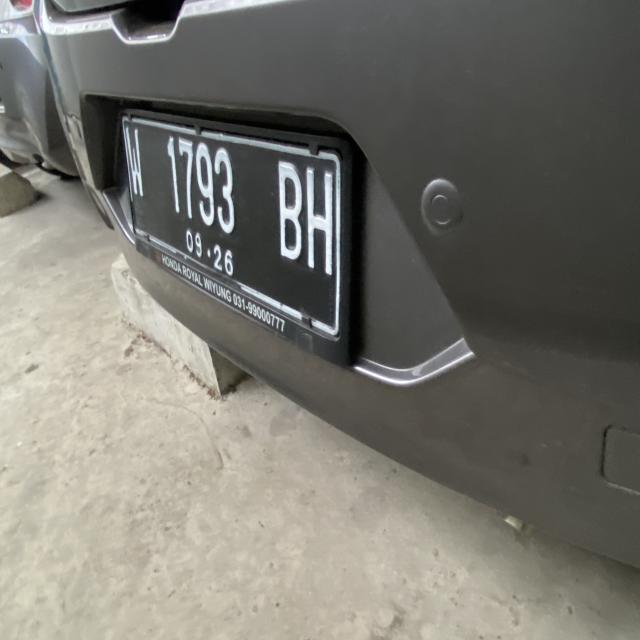1: (165, 132, 179, 222)
3: (215, 142, 236, 236)
7: (179, 132, 194, 225)
9: (195, 138, 215, 230)
B: (276, 157, 303, 263)
H: (306, 160, 334, 274)
W: (124, 122, 146, 201)
